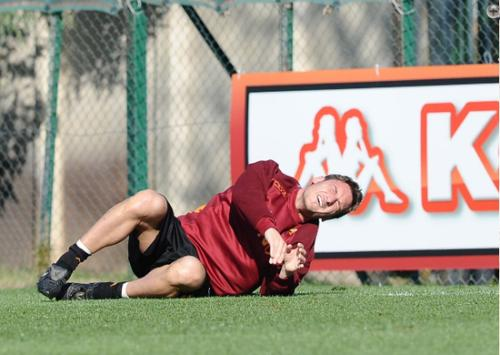fall: (32, 151, 367, 304)
